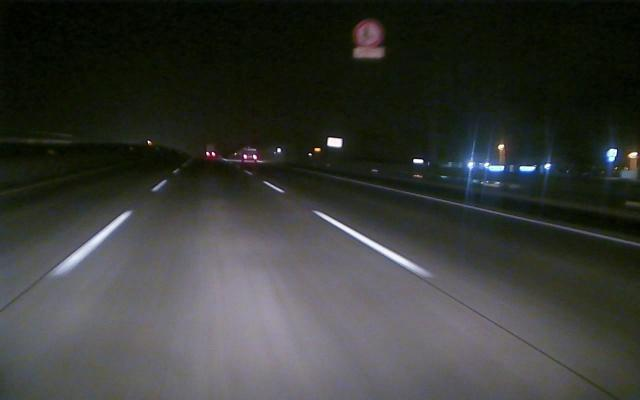lane: (332, 176, 637, 247), (262, 182, 435, 278), (46, 181, 163, 278)
